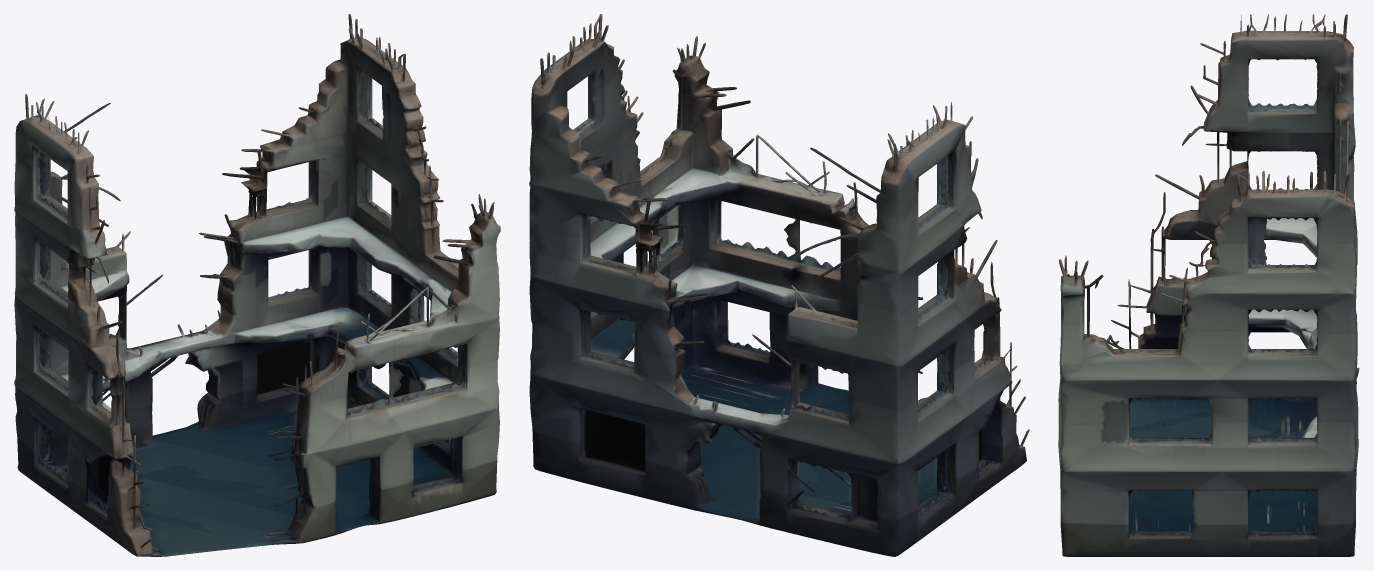
3 views of the same model, side by side, from view 1: azimuth 30°, elevation 25°; view 2: azimuth 150°, elevation 25°; view 3: azimuth 270°, elevation 25° (orthographic). The views are drawn at different scales.
Parts seen in each view (by area): view 1: node_0; view 2: node_0; view 3: node_0.
Part boxes in pixels (box(x1,y1,x2,y2)): node_0: box(14, 14, 500, 556); node_0: box(529, 14, 1029, 556); node_0: box(1058, 14, 1359, 556).
Bounding box in the file's own units: 0.7528 × 0.7909 × 0.5647.
Materials: 1 (1 with a texture image).
